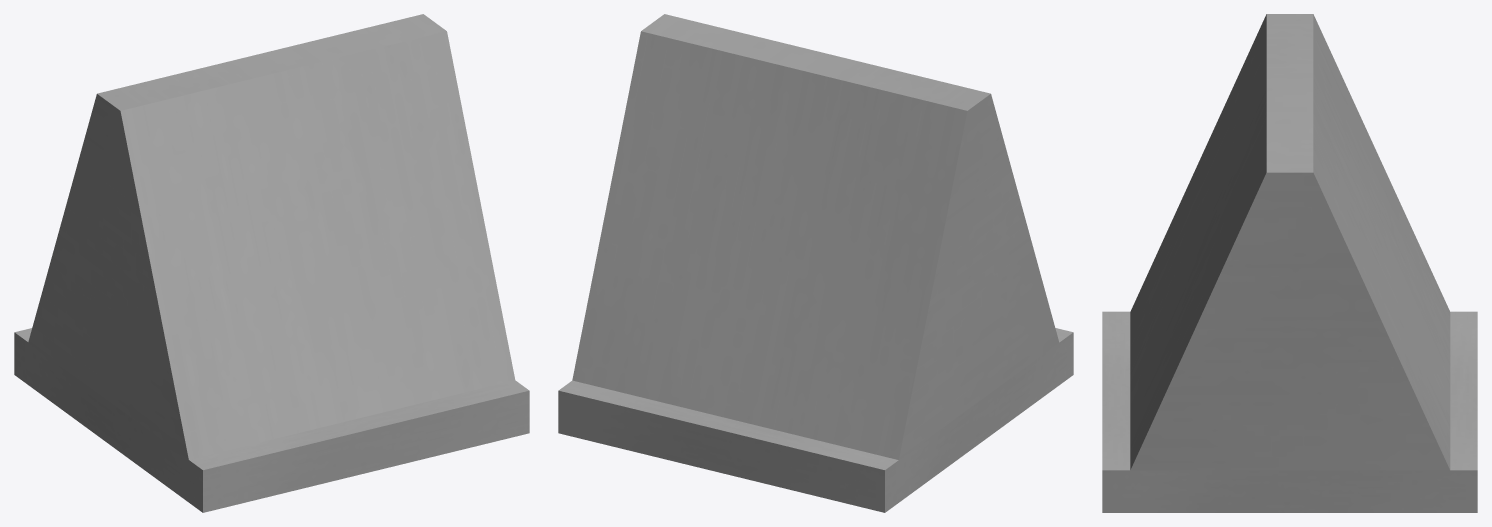
File: platform_light_full_base.obj
3 renders of one model, left to right at view 1: azimuth 30°, elevation 25°; view 2: azimuth 150°, elevation 25°; view 3: azimuth 270°, elevation 25°, orthographic.
Parts seen in each view (by area): view 1: 1, 0; view 2: 1, 0; view 3: 1, 0.
Boxes of the visible parts, x1,y1,x2,y2 form: 1: (28,14,515,459); 0: (14,328,529,512); 1: (572,14,1059,459); 0: (558,328,1073,512); 1: (1130,14,1450,470); 0: (1102,311,1477,512).
Size of the model in its own units: 16 by 16 by 16.
